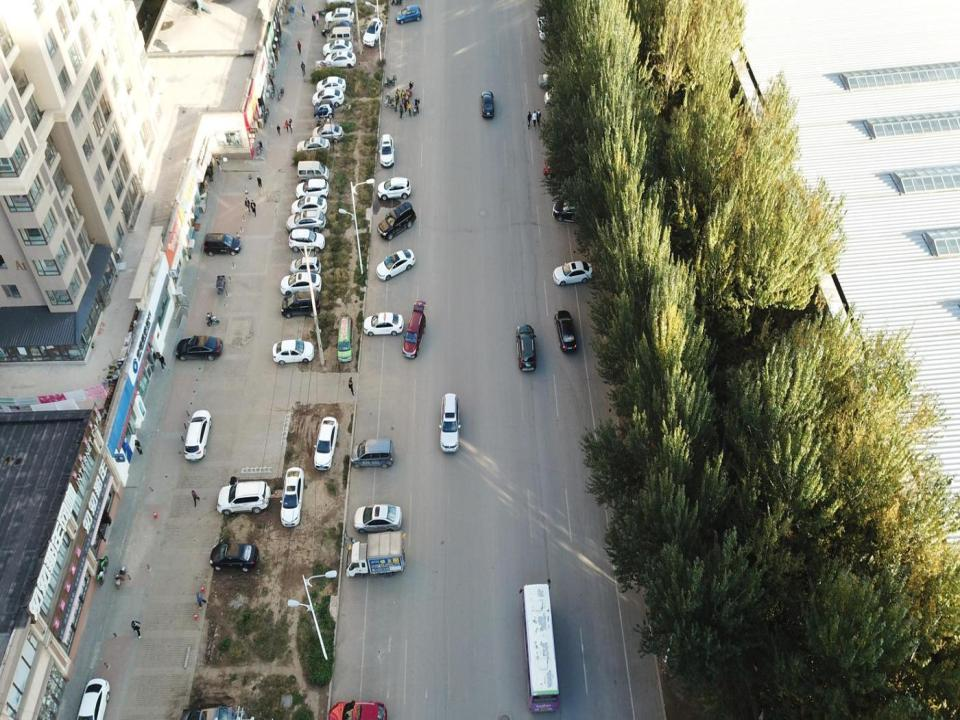bus: (519, 580, 560, 713)
car: (217, 482, 271, 518), (208, 540, 259, 573), (71, 678, 111, 718), (354, 502, 401, 536), (182, 410, 212, 461), (174, 333, 224, 362), (280, 468, 304, 527), (313, 416, 339, 470), (376, 248, 416, 283), (377, 204, 414, 240), (439, 393, 460, 452), (552, 196, 596, 224), (552, 259, 594, 286), (328, 700, 385, 719), (554, 310, 578, 355), (288, 227, 326, 255), (402, 314, 426, 358), (272, 342, 316, 366), (362, 310, 402, 336), (516, 324, 538, 371), (286, 210, 326, 235), (201, 232, 240, 257), (280, 273, 321, 296), (543, 154, 582, 178), (295, 177, 329, 203), (179, 705, 238, 719), (538, 68, 575, 90), (377, 178, 412, 200), (292, 195, 327, 216), (312, 87, 344, 109), (545, 84, 572, 109), (290, 256, 322, 277), (313, 124, 343, 146), (325, 50, 355, 72), (322, 40, 354, 60), (297, 138, 329, 157), (316, 75, 346, 95), (394, 6, 423, 26), (364, 18, 382, 50), (325, 9, 353, 28), (322, 21, 350, 39), (381, 135, 394, 168), (313, 101, 335, 120), (481, 92, 494, 122), (539, 14, 552, 44)
truck: (346, 534, 406, 580)
van: (280, 290, 319, 319), (350, 441, 395, 465), (296, 159, 329, 185), (337, 315, 354, 365), (326, 26, 352, 46)
